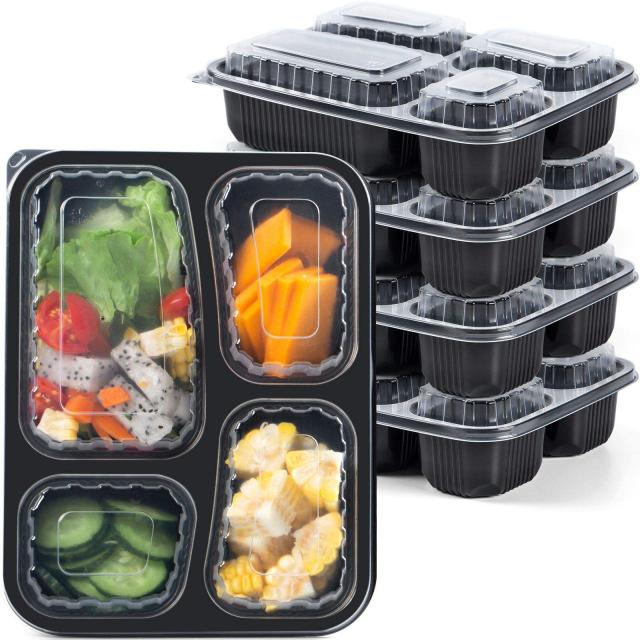plastic_box: (180, 0, 640, 529), (11, 122, 404, 638), (164, 0, 640, 226)
